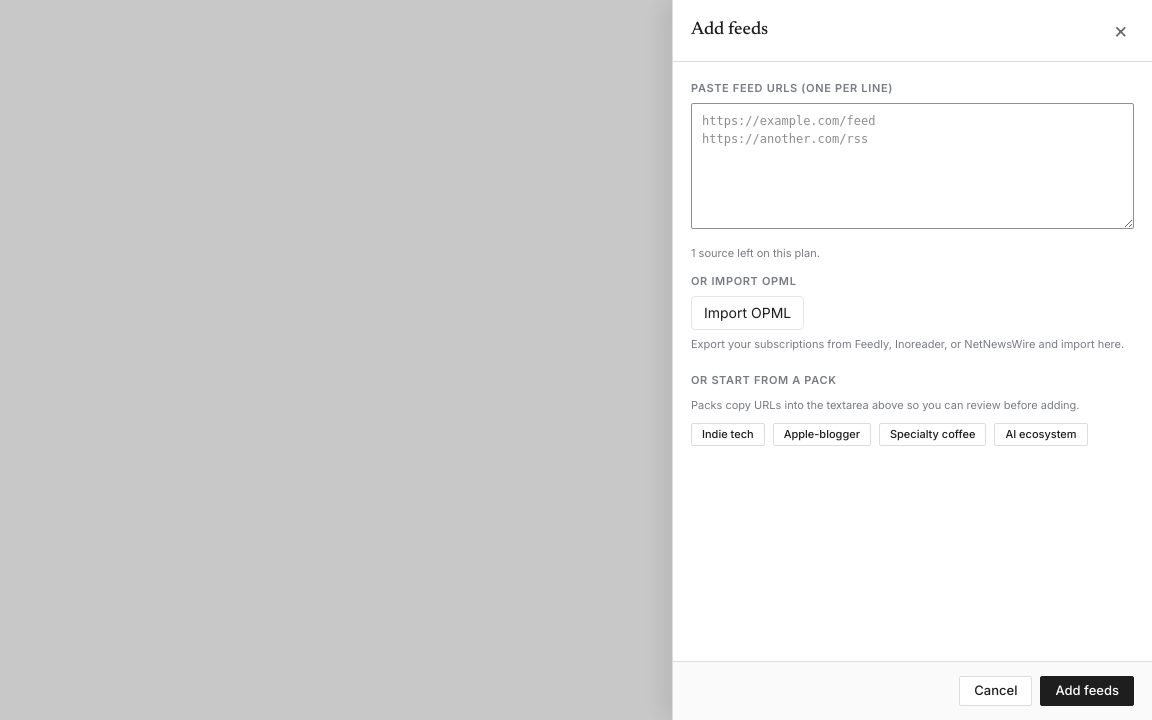
Test case: AddFeedSheet › keeps the sheet open and shows source limit errors
Type "https://example.com/feed" into the text box with placeholder "https://example.com/feed https://another.com/rss" at [912, 166], box [691, 102, 1134, 228]
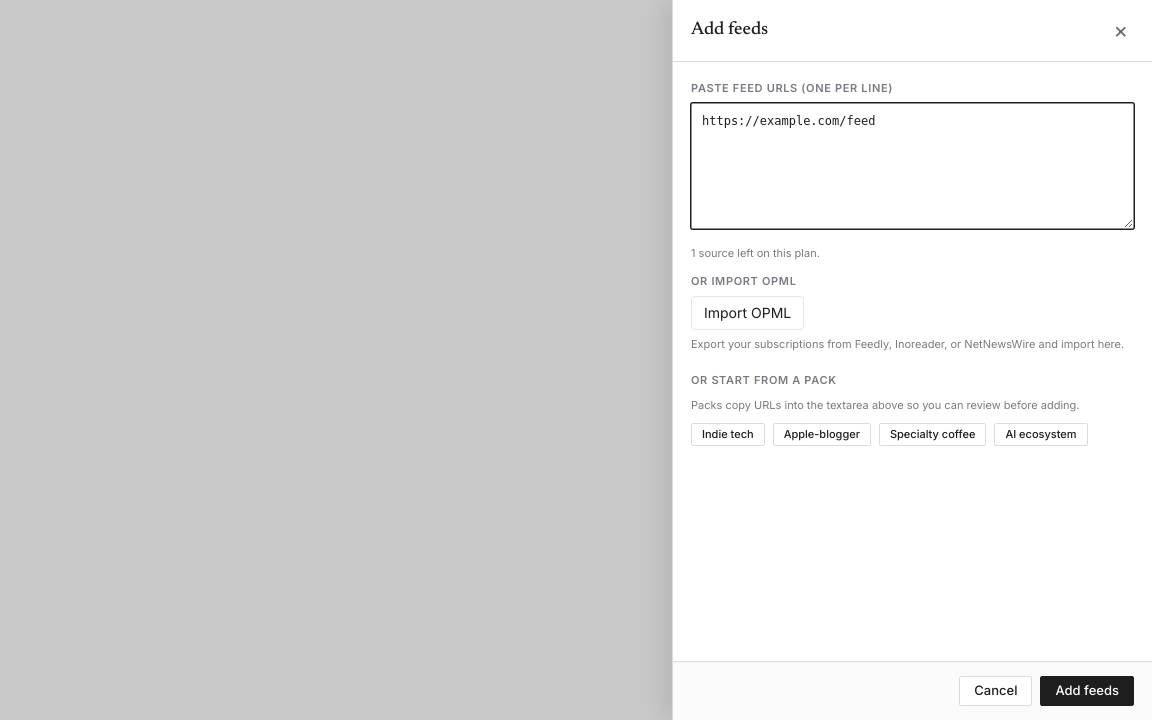
Click the button "Add feeds" at [1087, 691], box [1040, 676, 1134, 706]
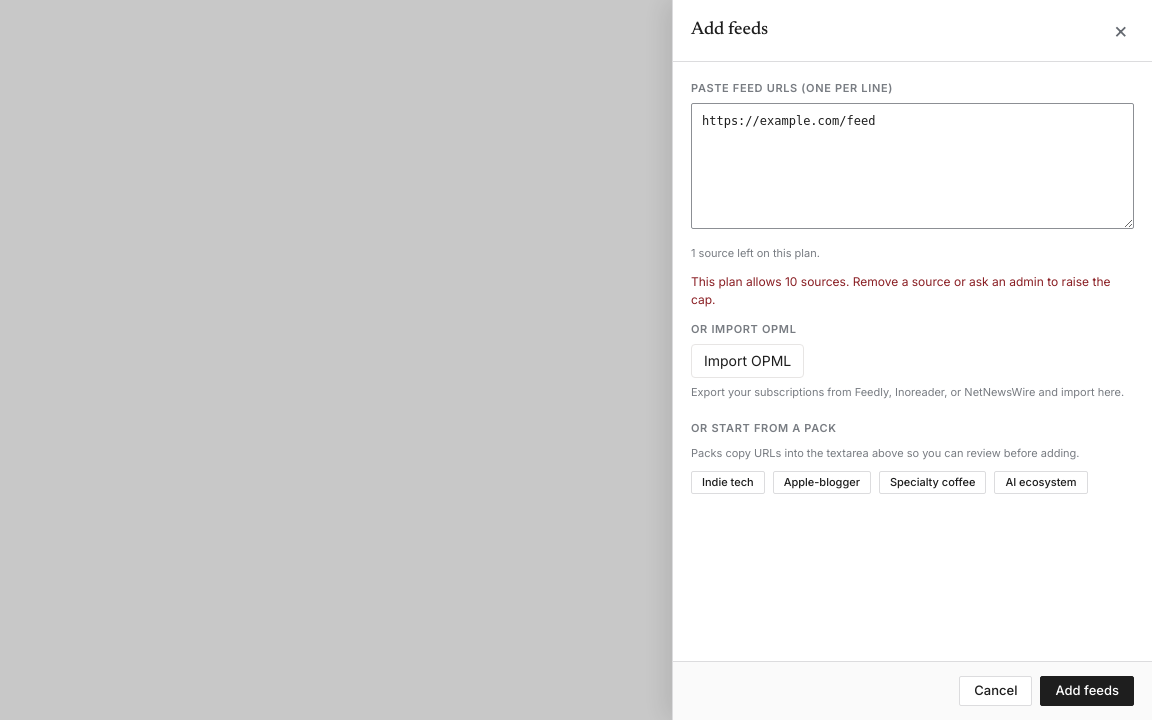
Expected: the text "This plan allows 10 sources" is shown, [691, 274, 1110, 307]
